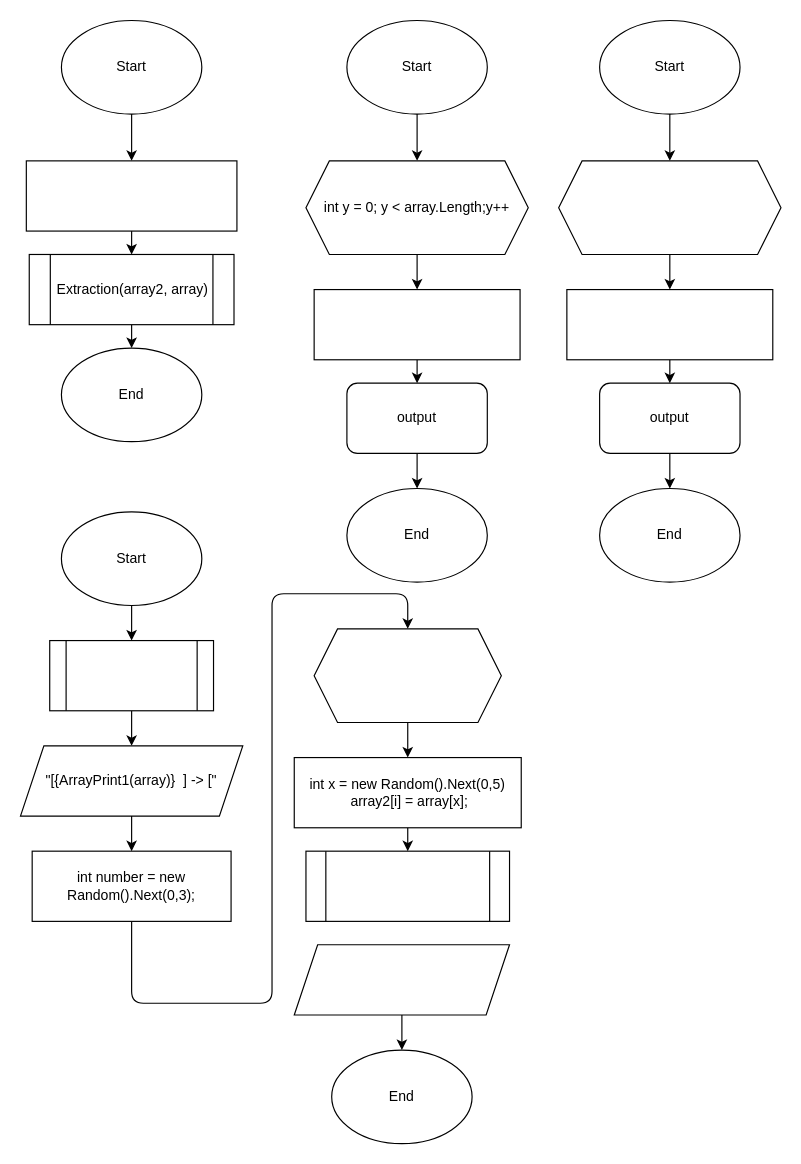
The diagram is 801 pixels wide and 1164 high, and some of its shapes have lost their labels. Each missing label, with the box of its shape:
"{ArrayPrint2(array2)} ]": (293, 944, 510, 1015)
array = [ a, b, :), 1, e] array2 = [] m: (25, 160, 237, 231)
ArrayPrint1(array): (49, 639, 214, 711)
ArrayPrint2(array2): (305, 850, 510, 921)
int i = number;i < array2.Length;i++: (313, 628, 501, 722)
int y = 0; y < array2.Length;y++: (558, 160, 781, 254)
output += "{array2[y],3}": (566, 288, 773, 360)
output += "{array[y],3}": (313, 288, 520, 360)
